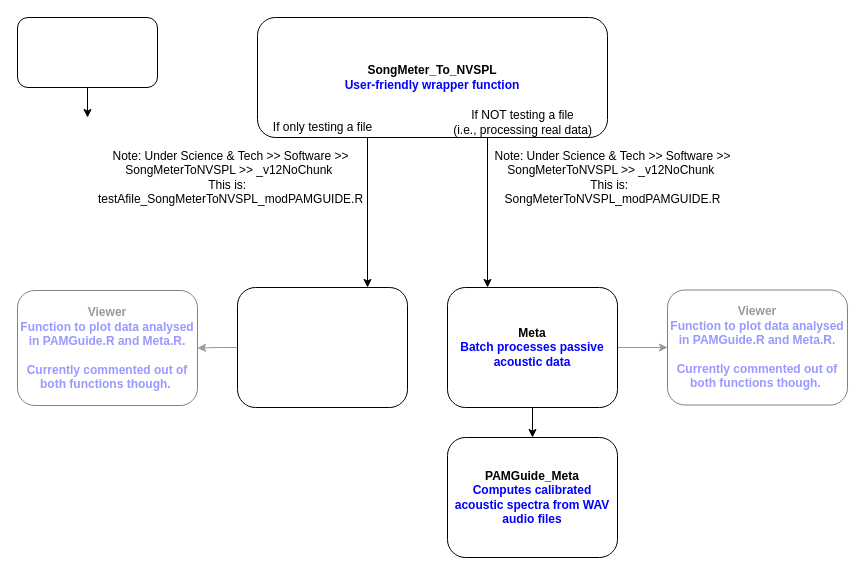
Image size: 865x575. Some labels were removed from this diagram. Here are the shapes that lost their labels. From the top down, the box of each, then its label:
(16, 16, 158, 88): Function Name What the function does Inputs Outputs
(236, 286, 408, 408): PAMGuide Computes calibrated or relative acoustic metrics from WAV audio files
